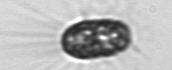plankton: (56, 15, 139, 65)
